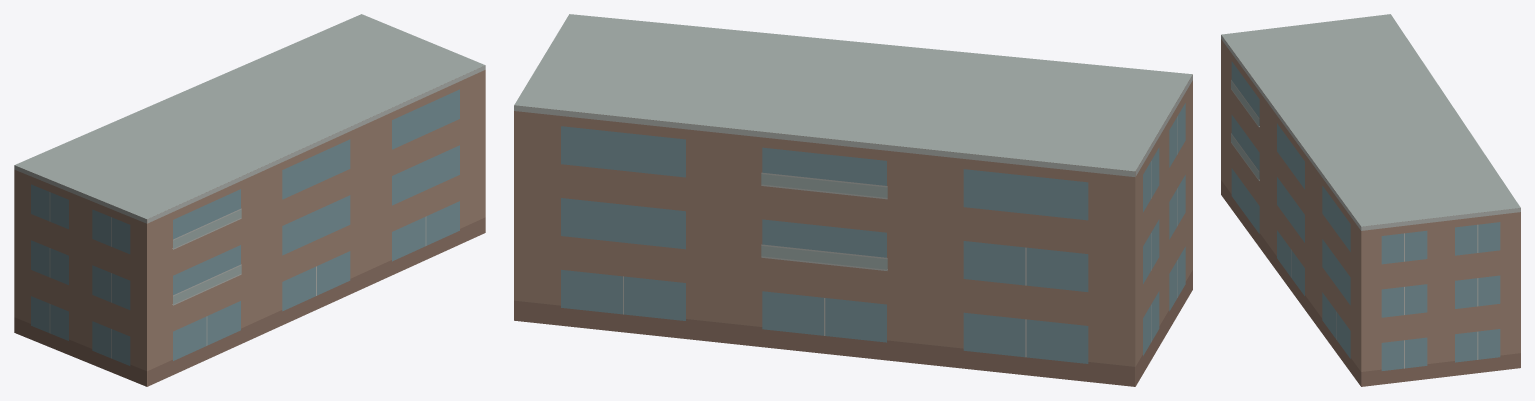
The model's file is survey-upis-32840077.glb.
3 views of the same model, side by side, from view 1: azimuth 30°, elevation 25°; view 2: azimuth 150°, elevation 25°; view 3: azimuth 270°, elevation 25° (orthographic). The views are drawn at different scales.
Visible parts, largest first — view 1: survey-upis-32840077.tmp; view 2: survey-upis-32840077.tmp; view 3: survey-upis-32840077.tmp.
Boxes of the visible parts, x1,y1,x2,y2 form: survey-upis-32840077.tmp: (14, 14, 485, 386); survey-upis-32840077.tmp: (514, 14, 1192, 386); survey-upis-32840077.tmp: (1221, 14, 1520, 386).
Bounding box in the file's own units: 26.05 × 9.15 × 15.52.
